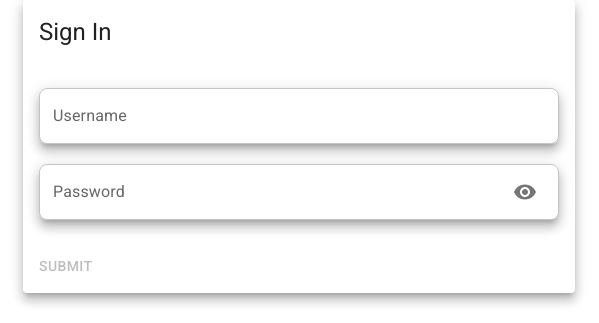
Sign In form › should hide password when clicking the un-reveal button
This screenshot has width=599, height=323.
Type "HiddenPassword" into the password field labelled "Password" at (268, 192), box top-left (39, 164), bottom-right (497, 220)
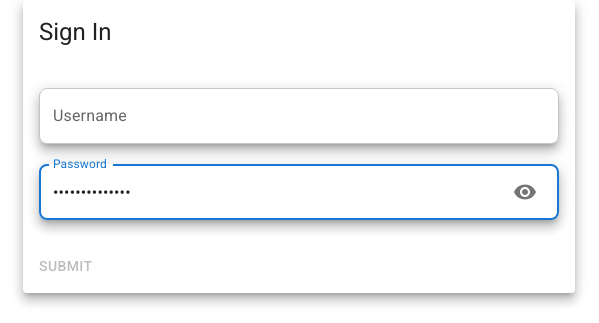
Click the button named "Show Password" at (525, 192), box top-left (505, 172), bottom-right (545, 212)
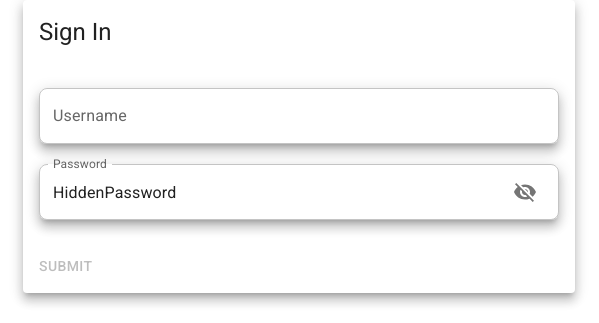
Click the button named "Hide Password" at (525, 192), box top-left (505, 172), bottom-right (545, 212)
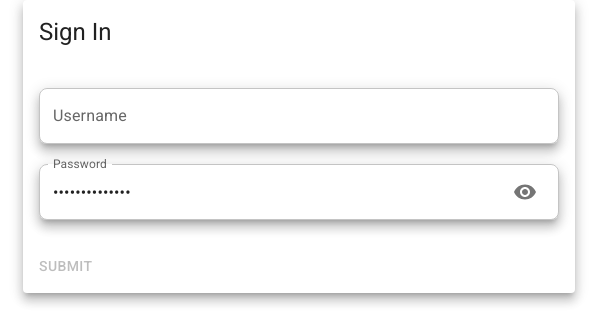
expect the password field labelled "Password" hides its text: met, box top-left (39, 164), bottom-right (497, 220)
